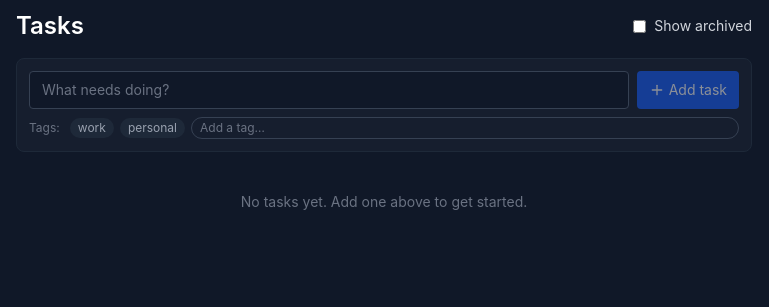
it: Tasks – create flow › creates a task and prepends it to the list
Expected: the list item "No tasks yet. Add one above to get started." is shown, [241,193,527,210]
Type "New task" into the field with placeholder "What needs doing?" at (329, 90), box [29,71,629,109]
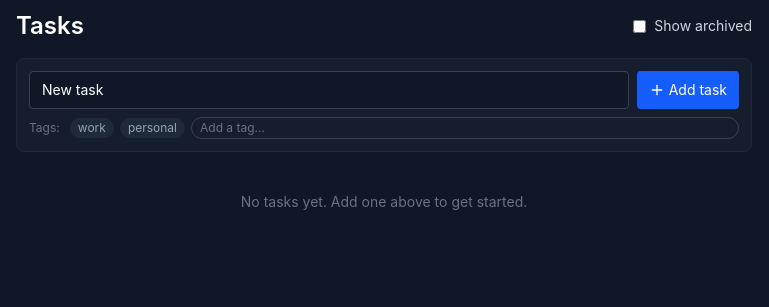
# Tap the built-in "work" chip so the POST body contains it.
Click the button "work" at (92, 128), box [70,118,114,138]
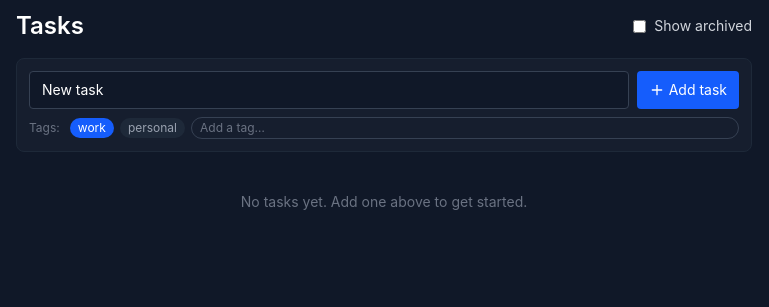
Click the button labelled "Add task" at (688, 90), box [637,71,739,109]
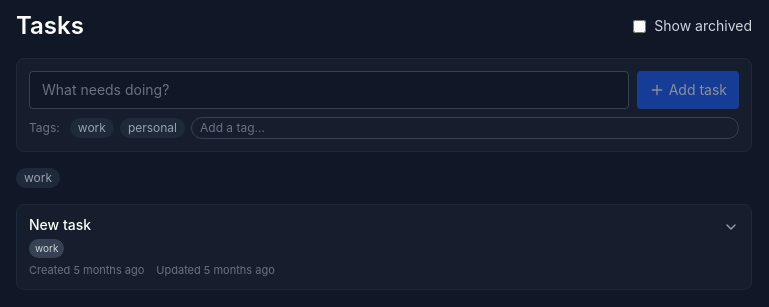
Now the text "New task" is shown, box [29,215,91,235]
